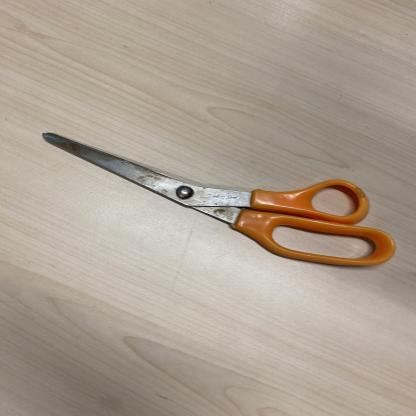scissors: (40, 132, 397, 267)
